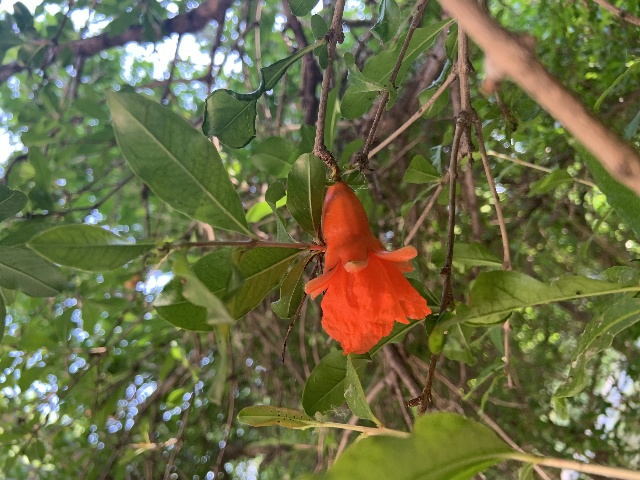flower: (304, 181, 430, 355)
